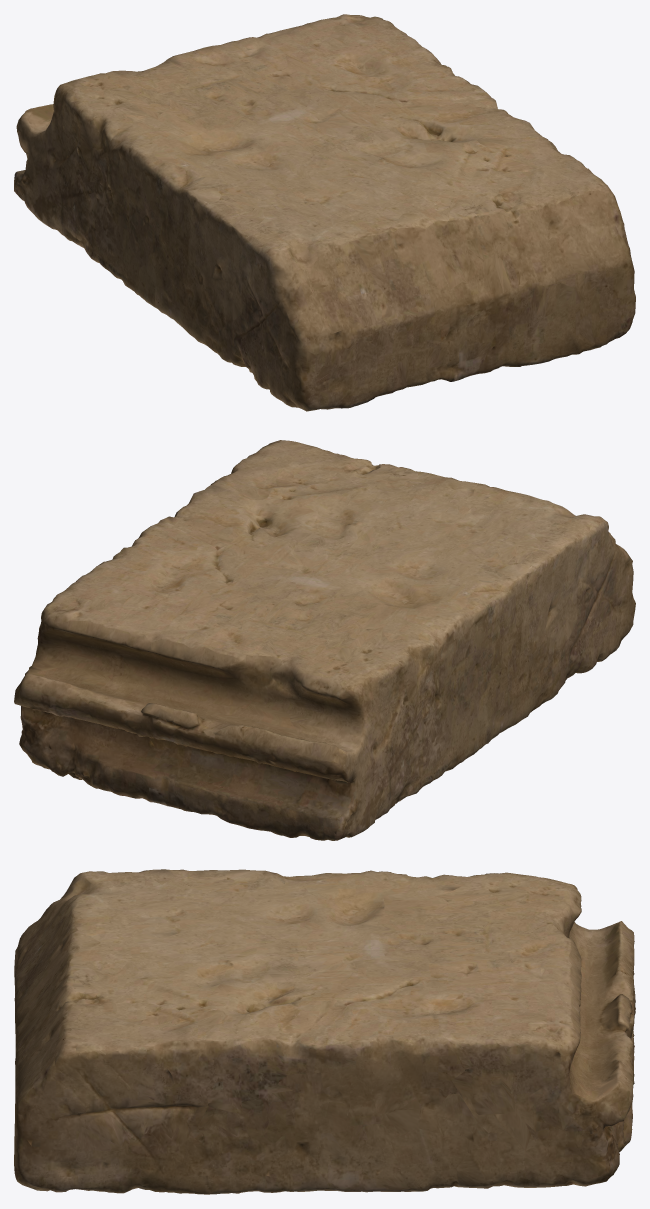
3 views of the same model, one above another, from view 1: azimuth 30°, elevation 25°; view 2: azimuth 150°, elevation 25°; view 3: azimuth 270°, elevation 25° (orthographic). The views are drawn at different scales.
Parts seen in each view (by area): view 1: 2032_25K; view 2: 2032_25K; view 3: 2032_25K.
Part boxes in pixels (x1=…): 2032_25K: x1=14, y1=14, x2=635, y2=411; 2032_25K: x1=14, y1=440, x2=635, y2=840; 2032_25K: x1=14, y1=869, x2=635, y2=1194.
Bounding box in the file's own units: 0.2783 × 0.1172 × 0.4168.
1 material, 1 textured.
